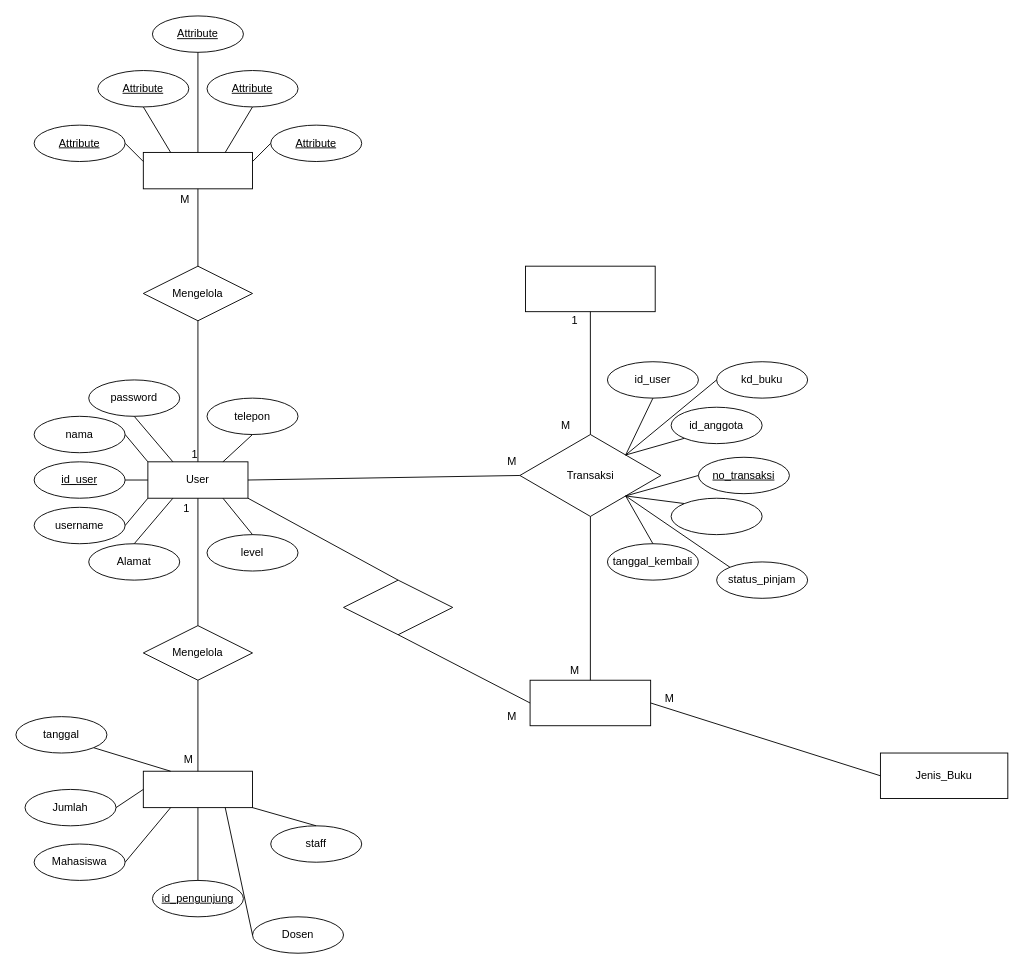
Some shapes in this 1024 by 969 pixel diagram are drawn without their labels. Here are the shapes that lost their labels. From the top down, the centre of each, then its label:
At (197,170): "Berita".
At (590,288): "Anggota".
At (716,516): "tanggal_pinjam".
At (398,607): "Relationship".
At (590,702): "Buku".
At (197,789): "Pengunjung".
